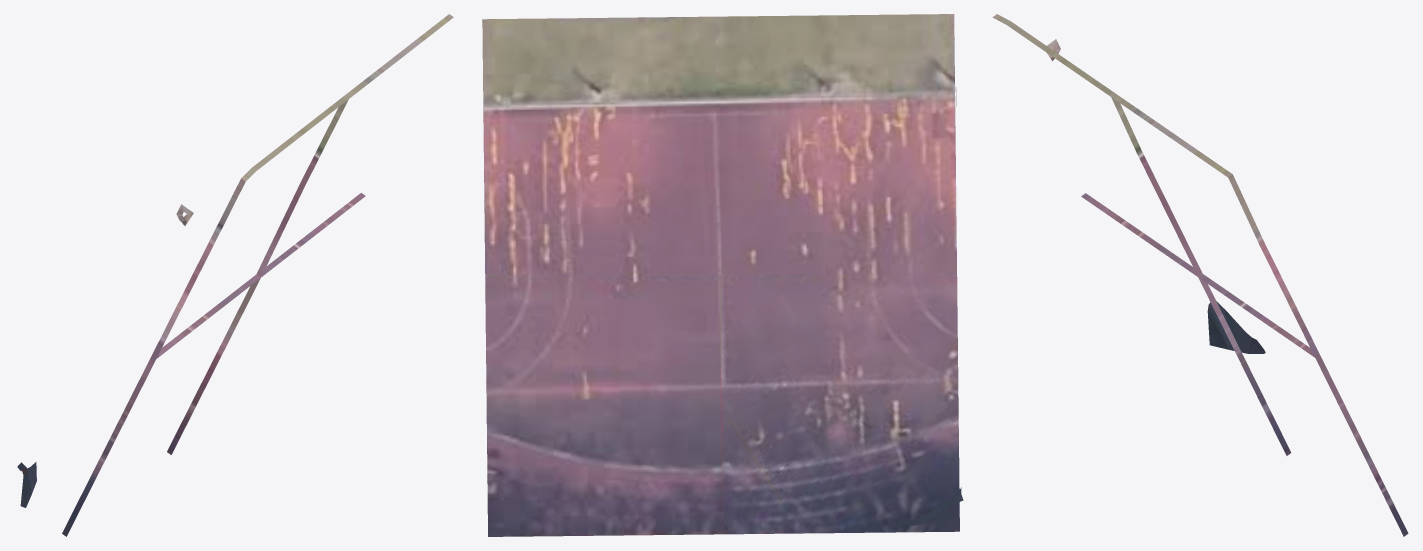
3 renders of one model, left to right at view 1: azimuth 30°, elevation 25°; view 2: azimuth 150°, elevation 25°; view 3: azimuth 270°, elevation 25°, orthographic. The views are drawn at different scales.
Bounding box in the file's own units: 40.44 × 34.75 × 32.19.
Materials: 1 (1 with a texture image).
